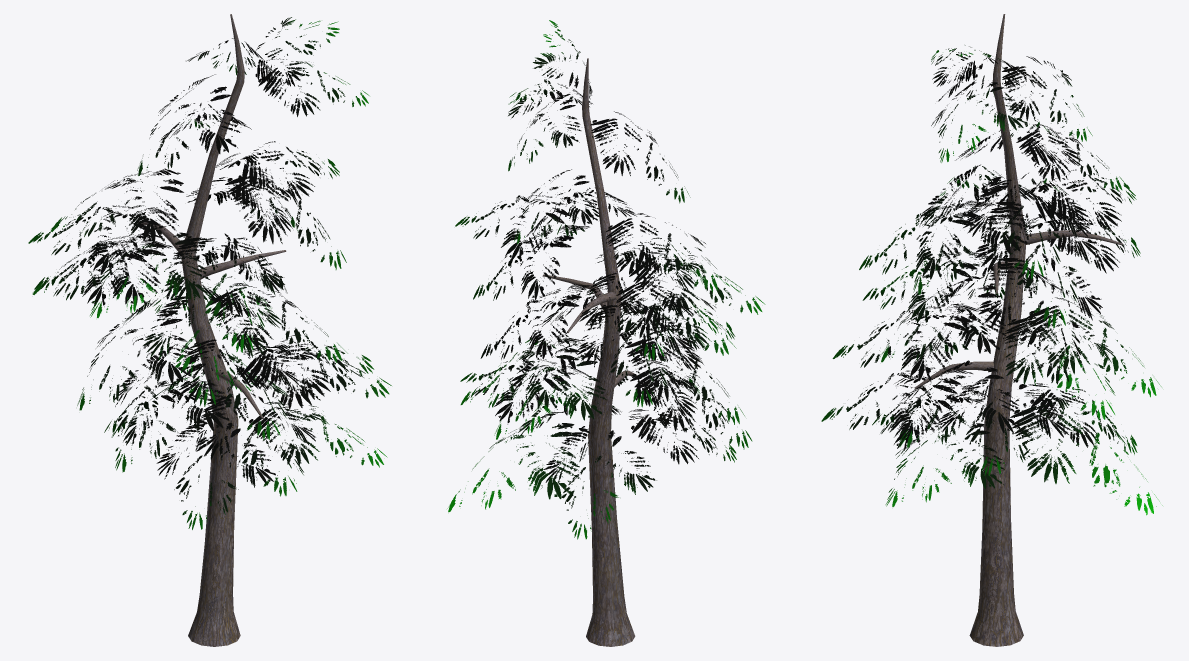
The model's file is Pine 1.fbx.
3 views of the same model, side by side, from view 1: azimuth 30°, elevation 25°; view 2: azimuth 150°, elevation 25°; view 3: azimuth 270°, elevation 25° (orthographic). The views are drawn at different scales.
Parts seen in each view (by area): view 1: tree3; view 2: tree3; view 3: tree3.
Boxes of the visible parts, x1=… form: tree3: x1=28, y1=14, x2=391, y2=646; tree3: x1=447, y1=20, x2=765, y2=646; tree3: x1=821, y1=14, x2=1162, y2=646.
Size of the model in its own units: 311 by 535 by 282.
